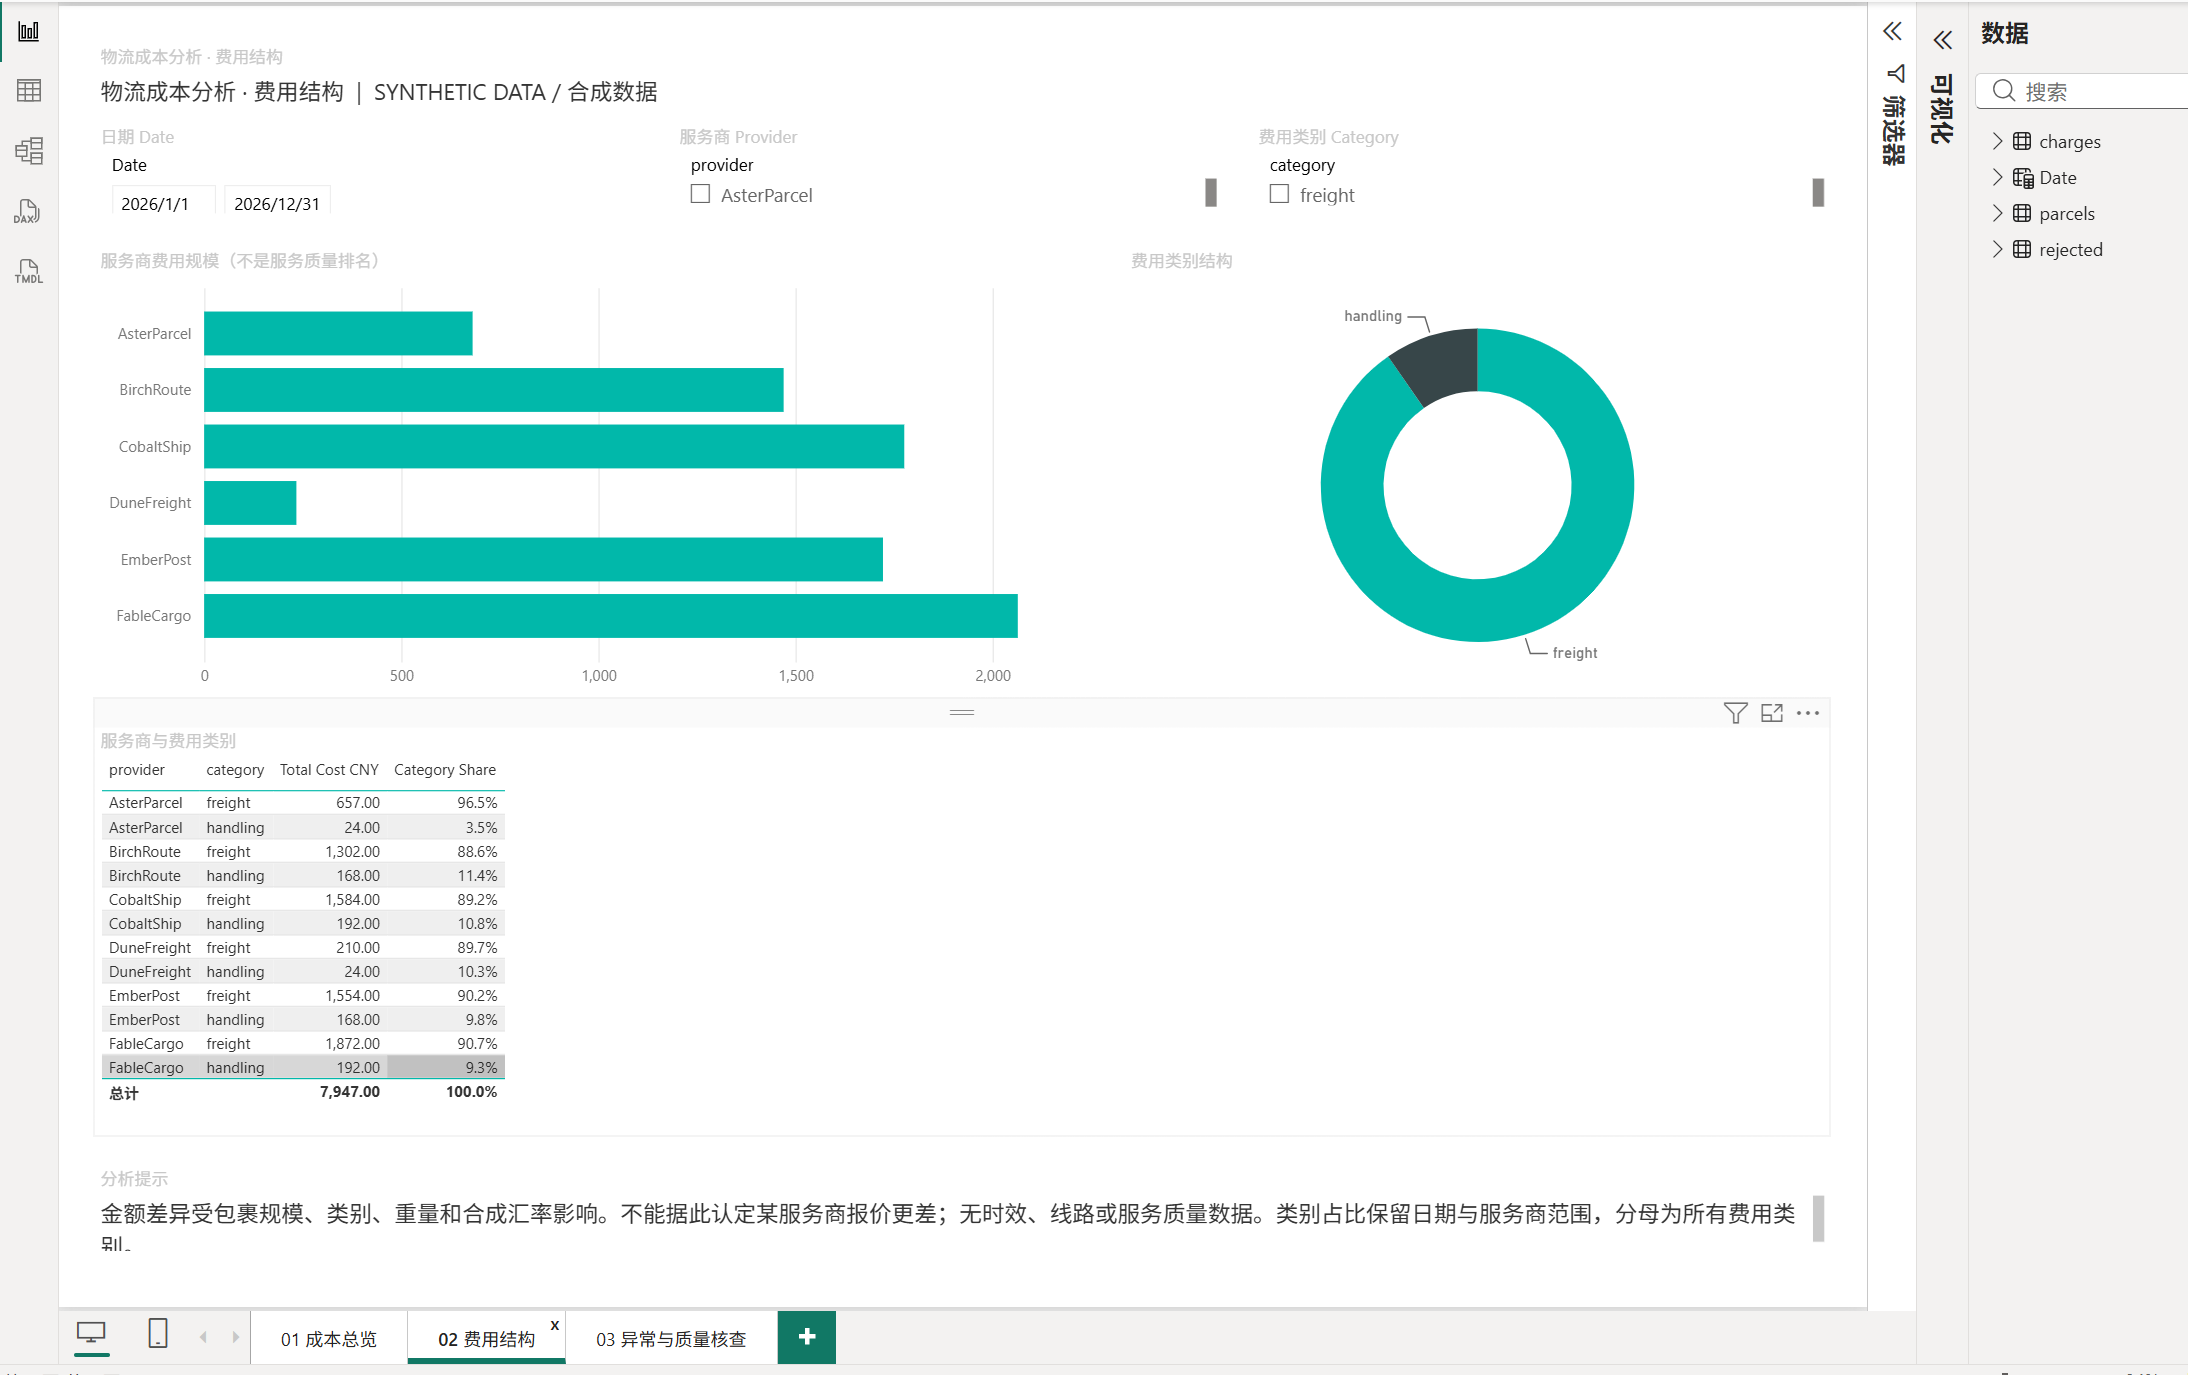

The page's visual inventory and layout, read from the dashboard file:
{"tool":"powerbi","page":{"name":"02 费用结构","canvas":[1280,900],"ordinal":1},"visuals":[{"type":"textbox","title":"物流成本分析 · 费用结构","box":[24,5,1230,52],"z":13},{"type":"slicer","title":"日期 Date","fields":{"Values":["Date.Date"]},"box":[24,64,390,100],"z":14},{"type":"slicer","title":"服务商 Provider","fields":{"Values":["parcels.provider"]},"box":[434,64,390,100],"z":15},{"type":"slicer","title":"费用类别 Category","fields":{"Values":["charges.category"]},"box":[844,64,410,100],"z":16},{"type":"clusteredBarChart","title":"服务商费用规模（不是服务质量排名）","fields":{"Category":["parcels.provider"],"Y":["charges.Total Cost CNY"]},"box":[24,180,710,300],"z":17},{"type":"donutChart","title":"费用类别结构","fields":{"Category":["charges.category"],"Y":["charges.Total Cost CNY"]},"box":[754,180,500,300],"z":18},{"type":"tableEx","title":"服务商与费用类别","fields":{"Values":["parcels.provider","charges.category","charges.Total Cost CNY","charges.Category Share"]},"box":[24,500,1230,270],"z":19},{"type":"textbox","title":"分析提示","box":[24,790,1230,95],"z":20}]}

Visuals, with their boxes on the page's 1280x900 design canvas (x1, y1, x2, y2). These are canvas units, not pixel positions in the 2188x1375 screenshot, which may show the page scaled, cropped or inside an application window:
"物流成本分析 · 费用结构" textbox: (left=24, top=5, right=1254, bottom=57)
"日期 Date" slicer: (left=24, top=64, right=414, bottom=164)
"服务商 Provider" slicer: (left=434, top=64, right=824, bottom=164)
"费用类别 Category" slicer: (left=844, top=64, right=1254, bottom=164)
"服务商费用规模（不是服务质量排名）" clusteredBarChart: (left=24, top=180, right=734, bottom=480)
"费用类别结构" donutChart: (left=754, top=180, right=1254, bottom=480)
"服务商与费用类别" tableEx: (left=24, top=500, right=1254, bottom=770)
"分析提示" textbox: (left=24, top=790, right=1254, bottom=885)
